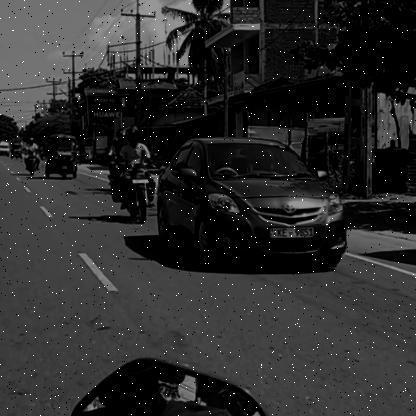motorcycle: (108, 161, 158, 227)
